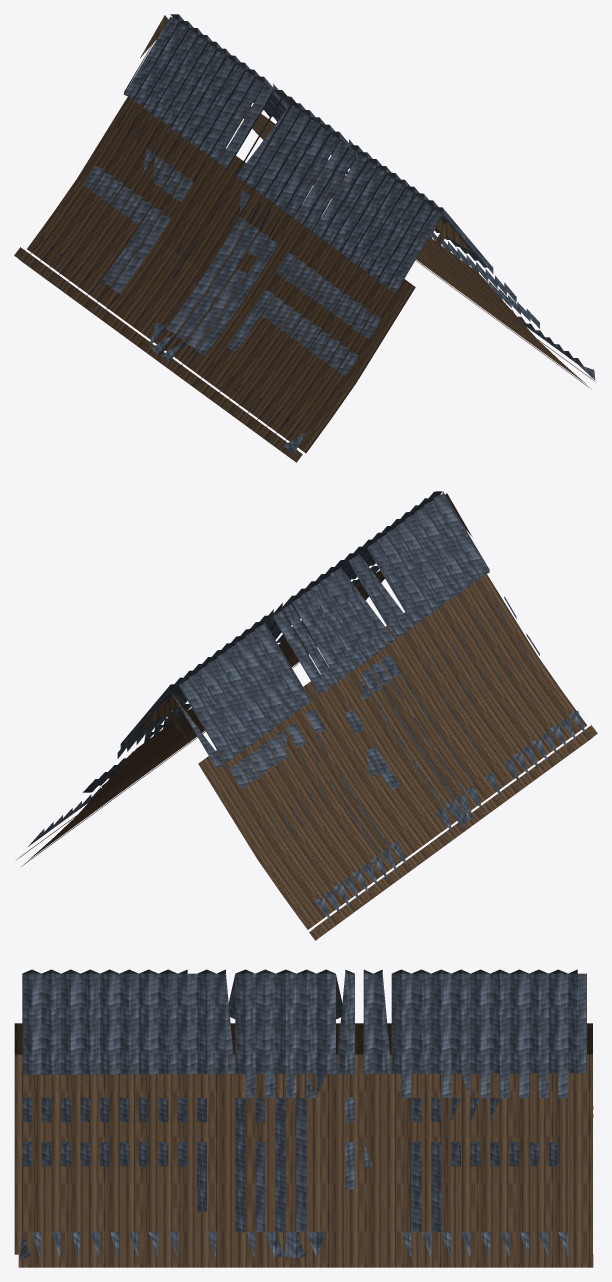
Rendered from Roof_Slate_8x14_LOD1.gltf.
3 views of the same model, one above another, from view 1: azimuth 30°, elevation 25°; view 2: azimuth 150°, elevation 25°; view 3: azimuth 270°, elevation 25° (orthographic). The views are drawn at different scales.
Visible parts, largest first — view 1: Roof_Slate_8x14_LOD1; view 2: Roof_Slate_8x14_LOD1; view 3: Roof_Slate_8x14_LOD1.
Part boxes in pixels (bbox=[...]): Roof_Slate_8x14_LOD1: bbox=[14, 14, 596, 462]; Roof_Slate_8x14_LOD1: bbox=[16, 491, 597, 940]; Roof_Slate_8x14_LOD1: bbox=[14, 969, 593, 1267].
Size of the model in its own units: 9.95 by 6.54 by 15.66.
Materials: 2 (2 with a texture image).
